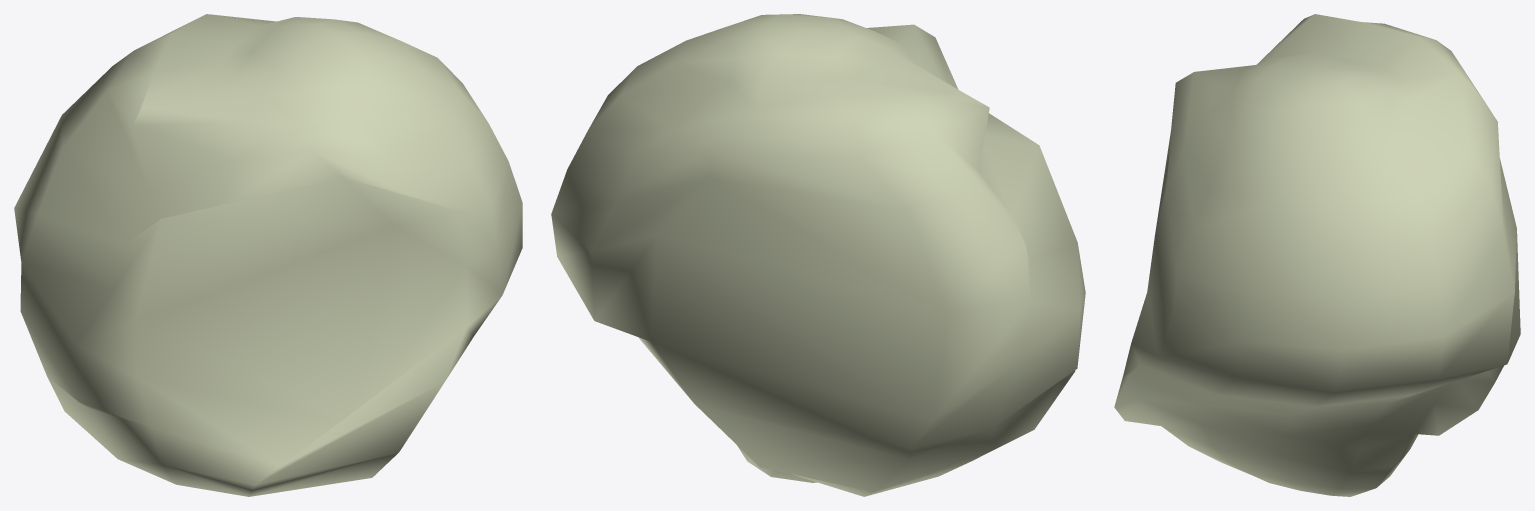
Rendered from sAsteroid1.obj.
The picture shows the model from 3 angles, left to right: view 1: azimuth 30°, elevation 25°; view 2: azimuth 150°, elevation 25°; view 3: azimuth 270°, elevation 25°; orthographic projection. The views are drawn at different scales.
Visible parts, largest first — view 1: sphere1; view 2: sphere1; view 3: sphere1.
Part boxes in pixels (x1=…): sphere1: x1=14, y1=14, x2=522, y2=496; sphere1: x1=551, y1=14, x2=1085, y2=496; sphere1: x1=1114, y1=14, x2=1520, y2=496.
Bounding box in the file's own units: 2.24 × 1.96 × 1.7.
